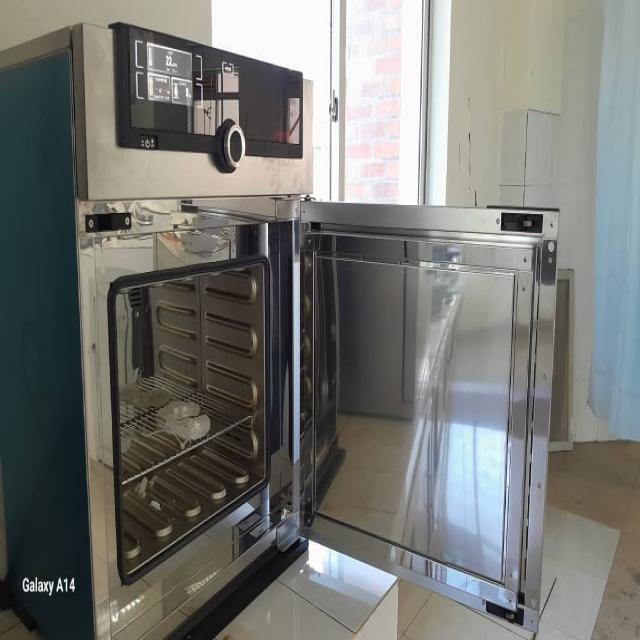Incubator: (6, 33, 564, 634)
